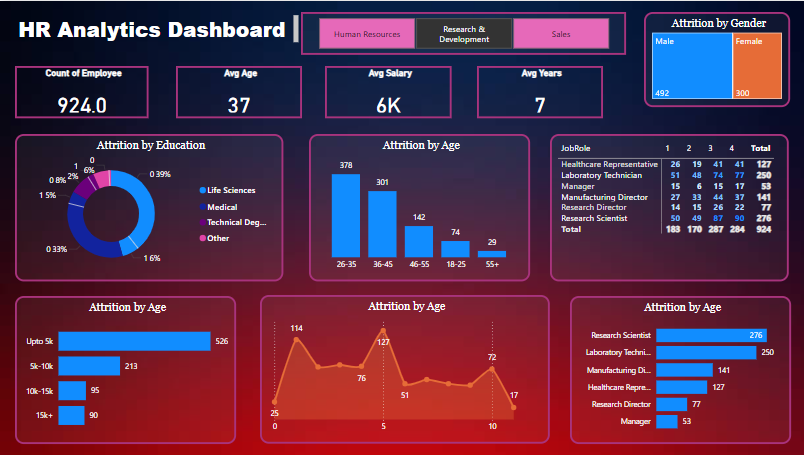

What the dashboard file says about the page in this screenshot:
{"tool":"powerbi","page":{"name":"Page 1","canvas":[1280,720],"ordinal":0},"visuals":[{"type":"cardVisual","title":"Count of Employee","fields":{"Data":["CountNonNull(HR_Analytics.EmpID)"]},"box":[23.4,102.5,212.1,82.7],"z":0},{"type":"cardVisual","title":"Avg Salary","fields":{"Data":["Avg(HR_Analytics.MonthlyIncome)"]},"box":[516,102.5,201.3,82.7],"z":1000},{"type":"cardVisual","title":"Avg Years","fields":{"Data":["Avg(HR_Analytics.YearsAtCompany)"]},"box":[756.9,102.5,199.6,82.7],"z":2000},{"type":"cardVisual","title":"Avg Age","fields":{"Data":["Avg(HR_Analytics.Age)"]},"box":[278.7,102.5,199.6,82.7],"z":3000},{"type":"donutChart","title":"Attrition by Education","fields":{"Category":["HR_Analytics.EducationField"],"Y":["CountNonNull(HR_Analytics.AttritionCount)"],"Series":["HR_Analytics.AttritionCount"]},"box":[23.4,210.3,426.1,233.7],"z":4000},{"type":"columnChart","title":"Attrition by Age","fields":{"Category":["HR_Analytics.AgeGroup"],"Y":["CountNonNull(HR_Analytics.AttritionCount)"]},"box":[490.8,210.3,350.6,233.7],"z":5000},{"type":"pivotTable","fields":{"Rows":["HR_Analytics.JobRole"],"Columns":["HR_Analytics.JobSatisfaction"],"Values":["CountNonNull(HR_Analytics.AttritionCount)"]},"box":[873.7,210.3,379.3,233.7],"z":6000},{"type":"barChart","title":"Attrition by Age","fields":{"Category":["HR_Analytics.SalarySlab"],"Y":["CountNonNull(HR_Analytics.AttritionCount)"]},"box":[23,468,351.4,234.7],"z":7000},{"type":"barChart","title":"Attrition by Age","fields":{"Category":["HR_Analytics.JobRole"],"Y":["CountNonNull(HR_Analytics.AttritionCount)"]},"box":[904.3,468,351.4,234.7],"z":8000},{"type":"areaChart","title":"Attrition by Age","fields":{"Category":["HR_Analytics.YearsAtCompany"],"Y":["CountNonNull(HR_Analytics.AttritionCount)"]},"box":[413.5,467.4,460.2,235.5],"z":9000},{"type":"treemap","title":"Attrition by Gender","fields":{"Group":["HR_Analytics.Gender"],"Values":["CountNonNull(HR_Analytics.AttritionCount)"]},"box":[1022.9,18,231.9,151],"z":10000},{"type":"slicer","title":"jhkjhkj","fields":{"Values":["HR_Analytics.Department"]},"box":[478.2,18,516,68.3],"z":11000},{"type":"textbox","box":[23.4,18,454.8,53.9],"z":12000}]}

Visuals, with their boxes in screenshot pixels (x1, y1, x2, y2), scaled from the page's 1280x720 canvas onto the 804x455 screenshot:
"Count of Employee" cardVisual: Rect(15, 65, 148, 117)
"Avg Salary" cardVisual: Rect(324, 65, 451, 117)
"Avg Years" cardVisual: Rect(475, 65, 601, 117)
"Avg Age" cardVisual: Rect(175, 65, 300, 117)
"Attrition by Education" donutChart: Rect(15, 133, 282, 281)
"Attrition by Age" columnChart: Rect(308, 133, 529, 281)
pivotTable - HR_Analytics.JobRole x HR_Analytics.JobSatisfaction: Rect(549, 133, 787, 281)
"Attrition by Age" barChart: Rect(14, 296, 235, 444)
"Attrition by Age" barChart: Rect(568, 296, 789, 444)
"Attrition by Age" areaChart: Rect(260, 295, 549, 444)
"Attrition by Gender" treemap: Rect(643, 11, 788, 107)
"jhkjhkj" slicer: Rect(300, 11, 624, 55)
textbox: Rect(15, 11, 300, 45)
